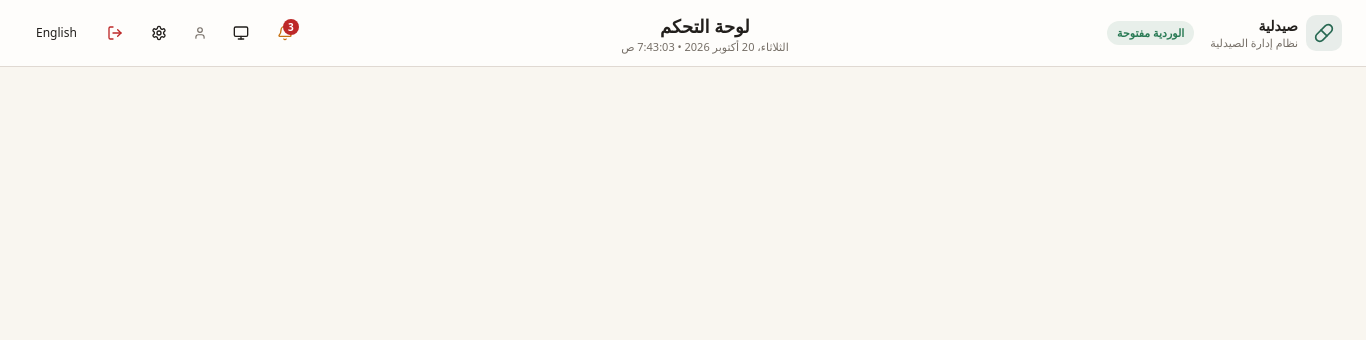
Test: AppHeader notification centre › shows unread alerts, marks them read and navigates on click
The image size is (1366, 340).
Expected: the text "3" is shown, [283,19,299,35]
Click the button named "التنبيهات".
click(285, 33)  # box [267,15,303,51]
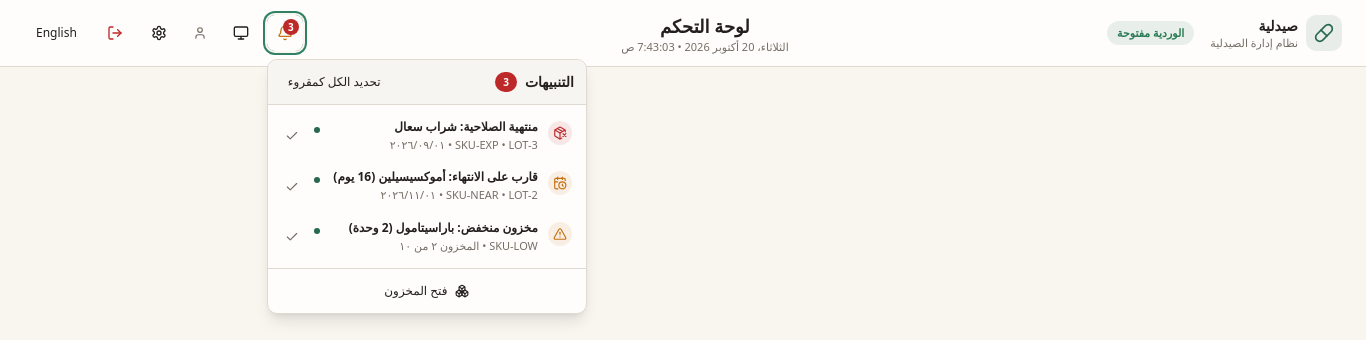
Expected: the text "منتهية الصلاحية: شراب سعال" is shown
Expected: the text "قارب على الانتهاء: أموكسيسيلين (16 يوم)" is shown, [330,169,538,185]
Expected: the text "مخزون منخفض: باراسيتامول (2 وحدة)" is shown, [330,220,538,236]
Click the text "منتهية الصلاحية: شراب سعال".
click(466, 126)  # box [394,118,538,135]
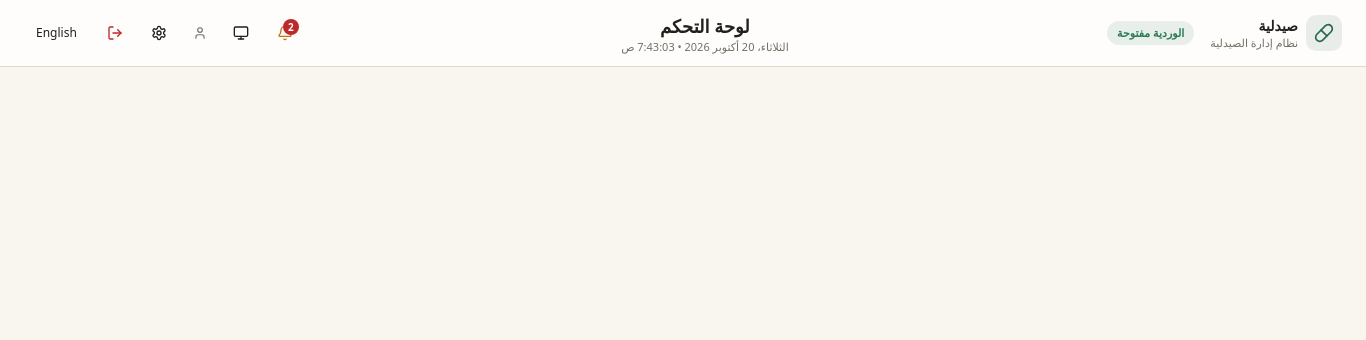
Expected: the text "2" is shown, [283,19,299,35]
// The per-item "mark as read" button consumes one more without navigating.
Click the button named "التنبيهات".
click(285, 33)  # box [267,15,303,51]
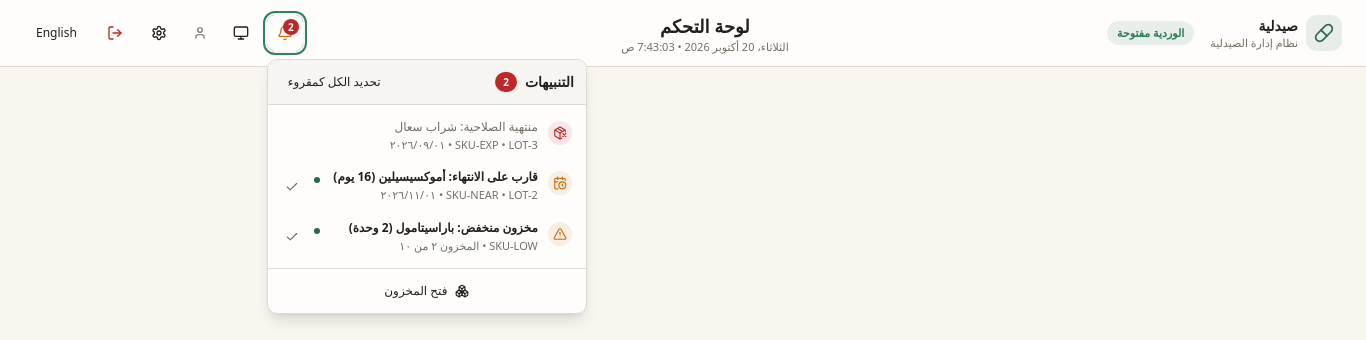
Expected: the number of buttons named "تحديد كمقروء" is 2
Click the 1st button named "تحديد كمقروء".
click(292, 187)  # box [278,173,306,201]
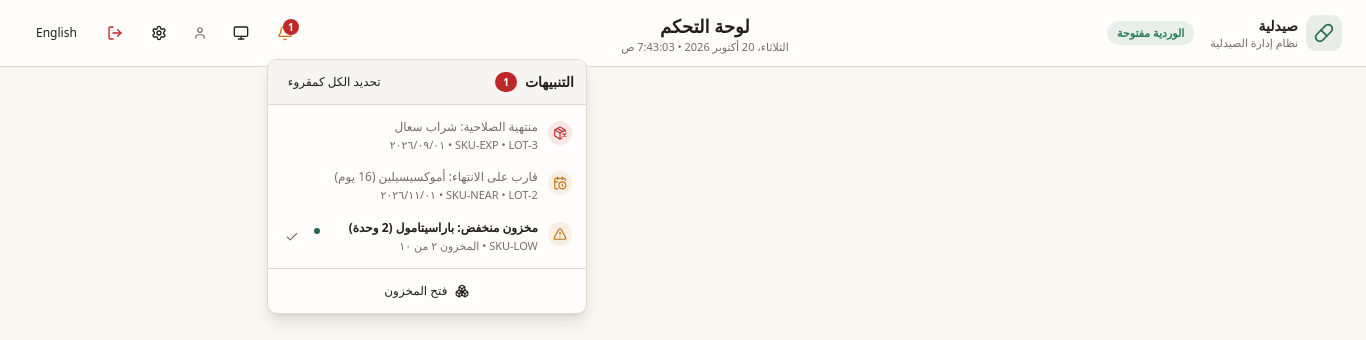
Expected: the 1st text "1" is shown, [283,19,299,35]
// "Mark all as read" clears the badge and persists the read flags.
Click the button "تحديد الكل كمقروء".
click(334, 82)  # box [280,68,389,96]
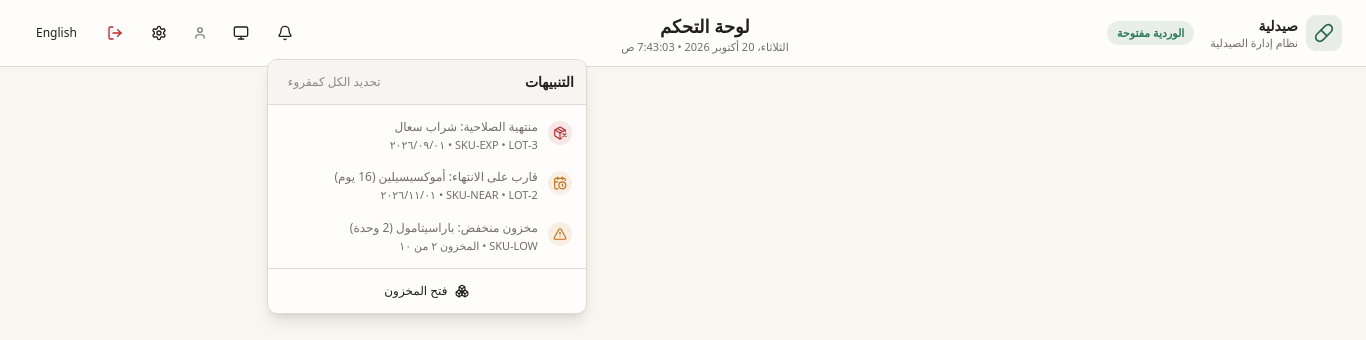
Expected: the button "تحديد الكل كمقروء" is disabled, [280,68,389,96]
